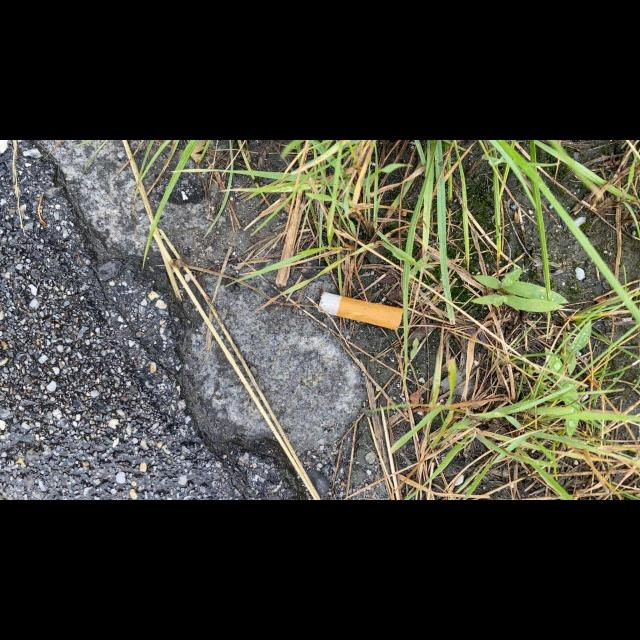cigarette: (318, 291, 404, 331)
